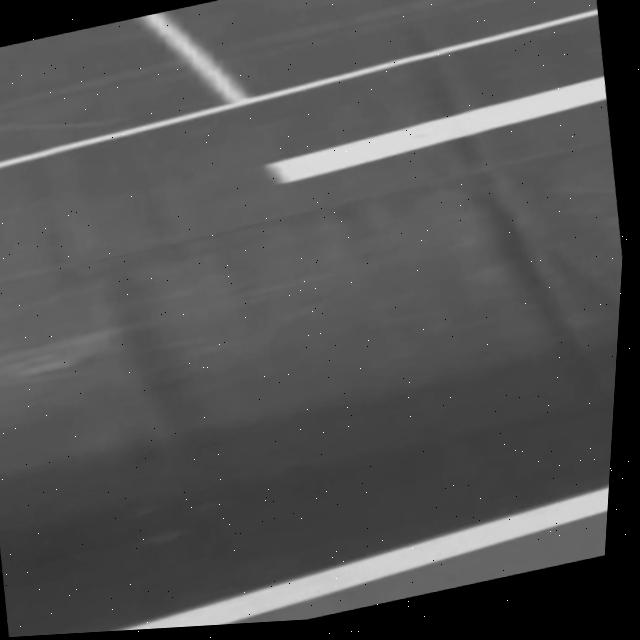center: (267, 76, 607, 183)
left: (117, 486, 609, 631)
